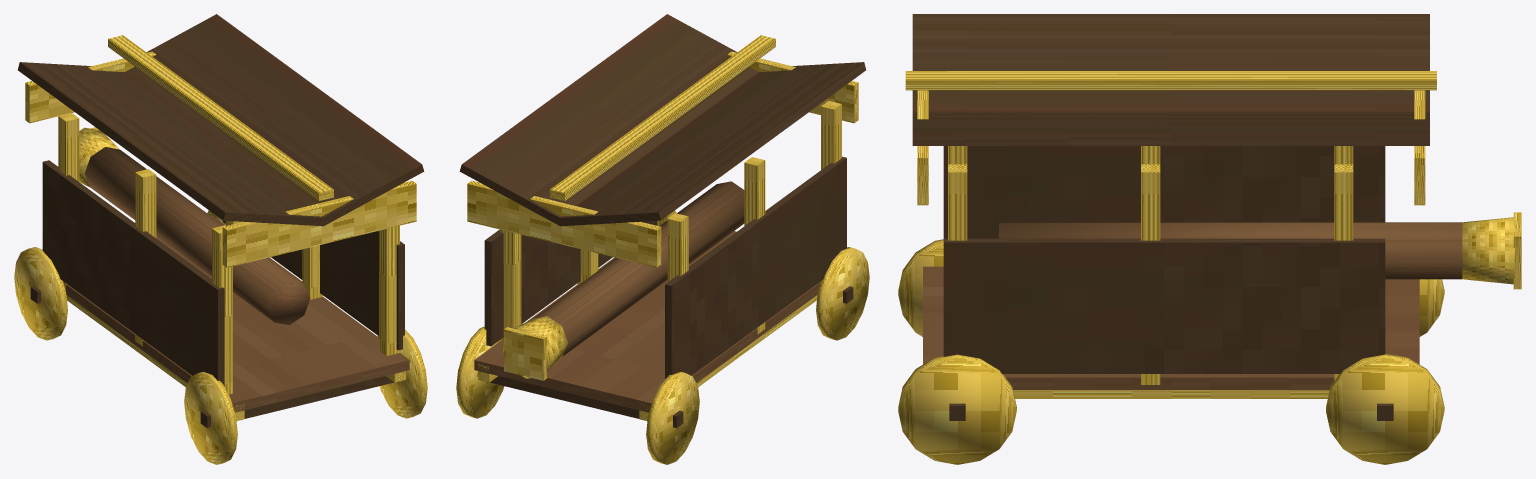
File: ae_ram_royal_lod2.glb
The picture shows the model from 3 angles, left to right: view 1: azimuth 30°, elevation 25°; view 2: azimuth 150°, elevation 25°; view 3: azimuth 270°, elevation 25°; orthographic projection. The views are drawn at different scales.
Parts seen in each view (by area): view 1: roofR, wallL, roofL, floor, log_core, gable_r, wallR, ridge, wheel_RL_tyre, wheel_FL_tyre, post_1_0, wheel_RR_tyre (+8 smaller); view 2: roofR, wallL, roofL, floor, log_core, gable_f, wallR, ridge, wheel_FL_tyre, wheel_RL_tyre, wheel_FR_tyre, head_plate (+9 smaller); view 3: wallR, roofL, wallL, roofR, ridge, log_core, wheel_RR_tyre, wheel_FR_tyre, floor, ram_head, runnerR, wheel_RL_tyre (+6 smaller).
Part boxes in pixels (<box>): roofR: <box>125,14,424,225</box>; wallL: <box>42,160,224,386</box>; roofL: <box>18,62,325,226</box>; floor: <box>65,215,409,412</box>; log_core: <box>84,147,310,325</box>; gable_r: <box>222,180,416,267</box>; wallR: <box>223,220,404,350</box>; ridge: <box>108,35,333,200</box>; wheel_RL_tyre: <box>184,371,237,464</box>; wheel_FL_tyre: <box>14,247,67,340</box>; post_1_0: <box>379,225,399,355</box>; wheel_RR_tyre: <box>378,329,427,418</box>; roofR: <box>459,14,758,225</box>; wallL: <box>665,156,846,379</box>; roofL: <box>558,62,865,226</box>; floor: <box>474,231,820,412</box>; log_core: <box>533,181,744,356</box>; gable_f: <box>467,180,661,267</box>; wallR: <box>484,221,657,346</box>; ridge: <box>550,35,775,200</box>; wheel_FL_tyre: <box>646,371,699,464</box>; wheel_RL_tyre: <box>816,247,869,340</box>; wheel_FR_tyre: <box>456,326,504,418</box>; head_plate: <box>504,327,546,380</box>; wallR: <box>943,238,1385,373</box>; roofL: <box>912,14,1429,111</box>; wallL: <box>943,146,1385,238</box>; roofR: <box>912,111,1429,145</box>; ridge: <box>905,71,1436,90</box>; log_core: <box>999,222,1462,279</box>; wheel_RR_tyre: <box>898,354,1016,464</box>; wheel_FR_tyre: <box>1326,353,1444,464</box>; floor: <box>923,266,1419,389</box>; ram_head: <box>1462,217,1514,284</box>; runnerR: <box>1013,390,1329,398</box>; wheel_RL_tyre: <box>898,239,943,336</box>.
Size of the model in its own units: 2.15 by 2.64 by 4.52.
2 materials, 2 textured.
